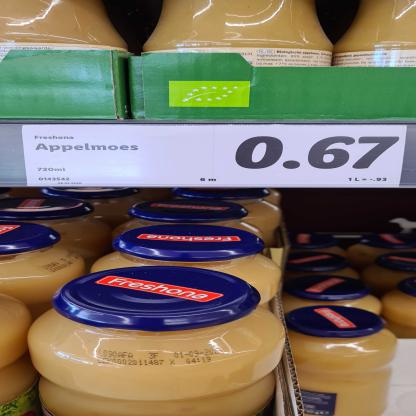prtg: (24, 127, 408, 189)
